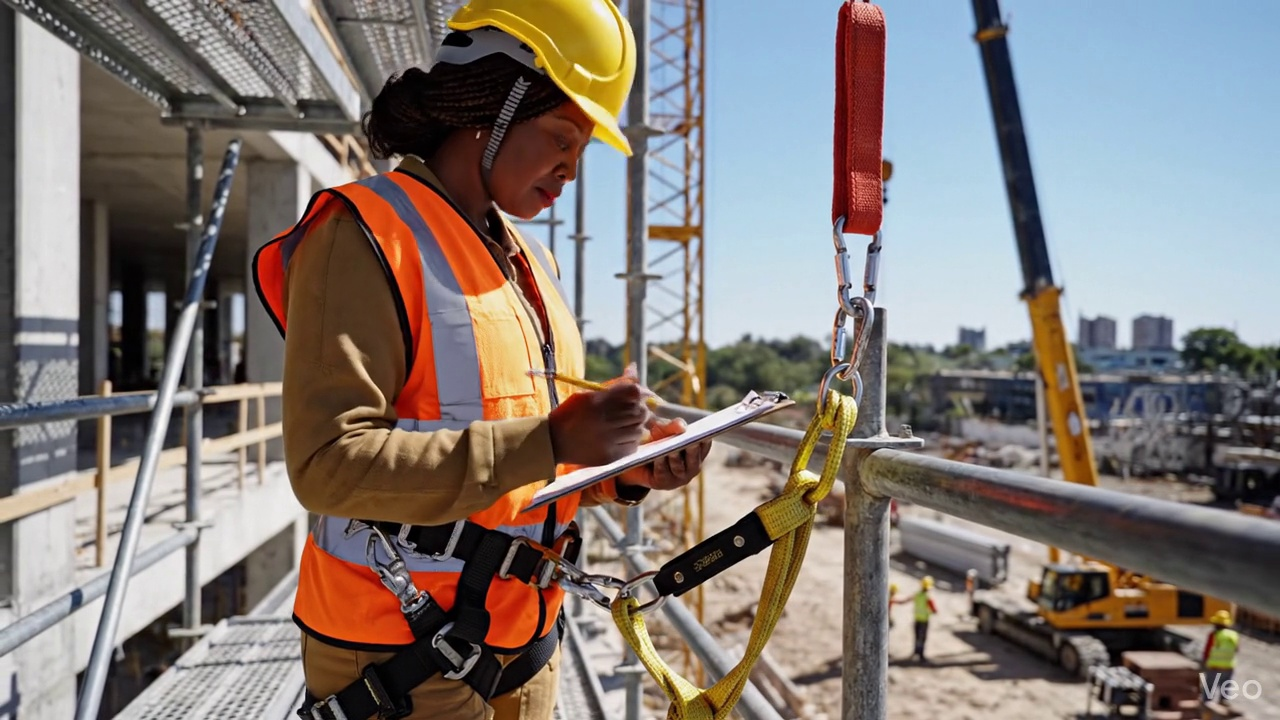p: (254, 0, 709, 719), (510, 709, 514, 710), (502, 709, 504, 711), (500, 704, 504, 705), (510, 704, 513, 705)
